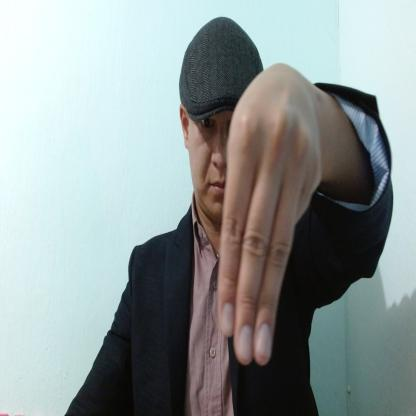M: (218, 64, 324, 368)
